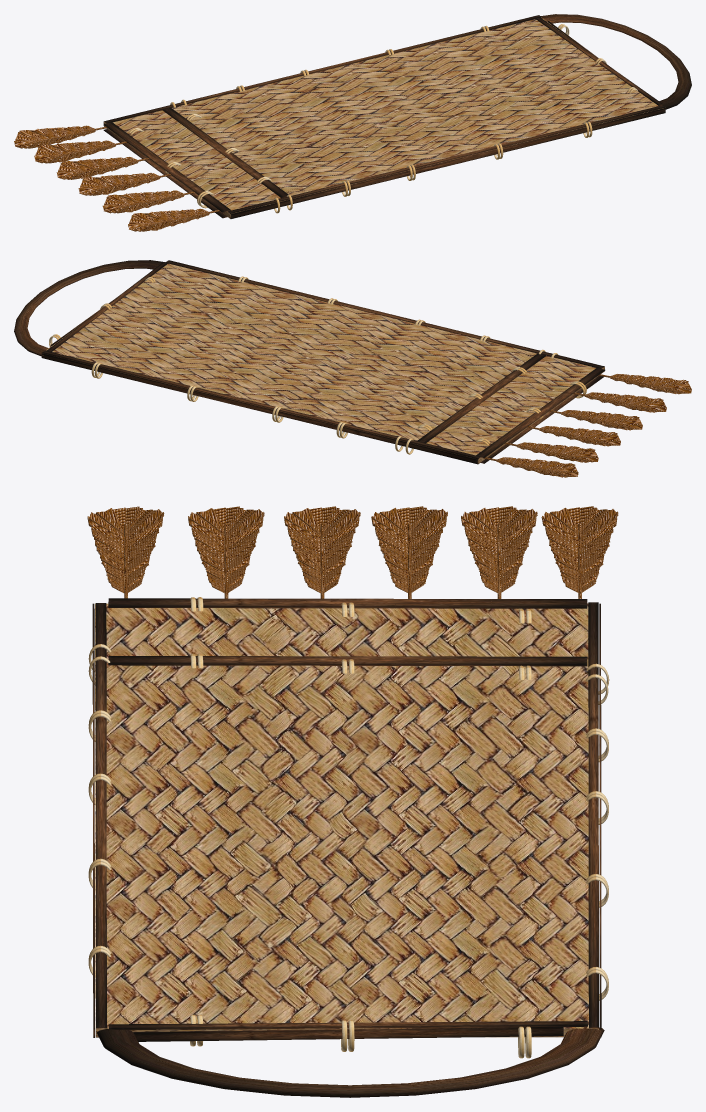
3 views of the same model, one above another, from view 1: azimuth 30°, elevation 25°; view 2: azimuth 150°, elevation 25°; view 3: azimuth 270°, elevation 25° (orthographic). The views are drawn at different scales.
Parts seen in each view (by area): view 1: Box001, Box007, Layer_AVLA005, Torus033; view 2: Box001, Box007, Layer_AVLA005, Torus033; view 3: Box001, Box007, Layer_AVLA005, Torus033.
Boxes of the visible parts, <box> form: Box001: <box>104,17,663,218</box>; Box007: <box>103,14,691,218</box>; Layer_AVLA005: <box>14,125,220,231</box>; Torus033: <box>129,24,637,213</box>; Box001: <box>46,263,604,463</box>; Box007: <box>14,260,605,464</box>; Layer_AVLA005: <box>483,374,691,477</box>; Torus033: <box>49,276,586,454</box>; Box001: <box>95,603,598,1037</box>; Box007: <box>92,598,604,1097</box>; Layer_AVLA005: <box>87,506,618,598</box>; Torus033: <box>88,597,609,1058</box>.
Bounding box in the file's own units: 95.3 × 2.95 × 36.83.
Materials: 4 (4 with a texture image).
